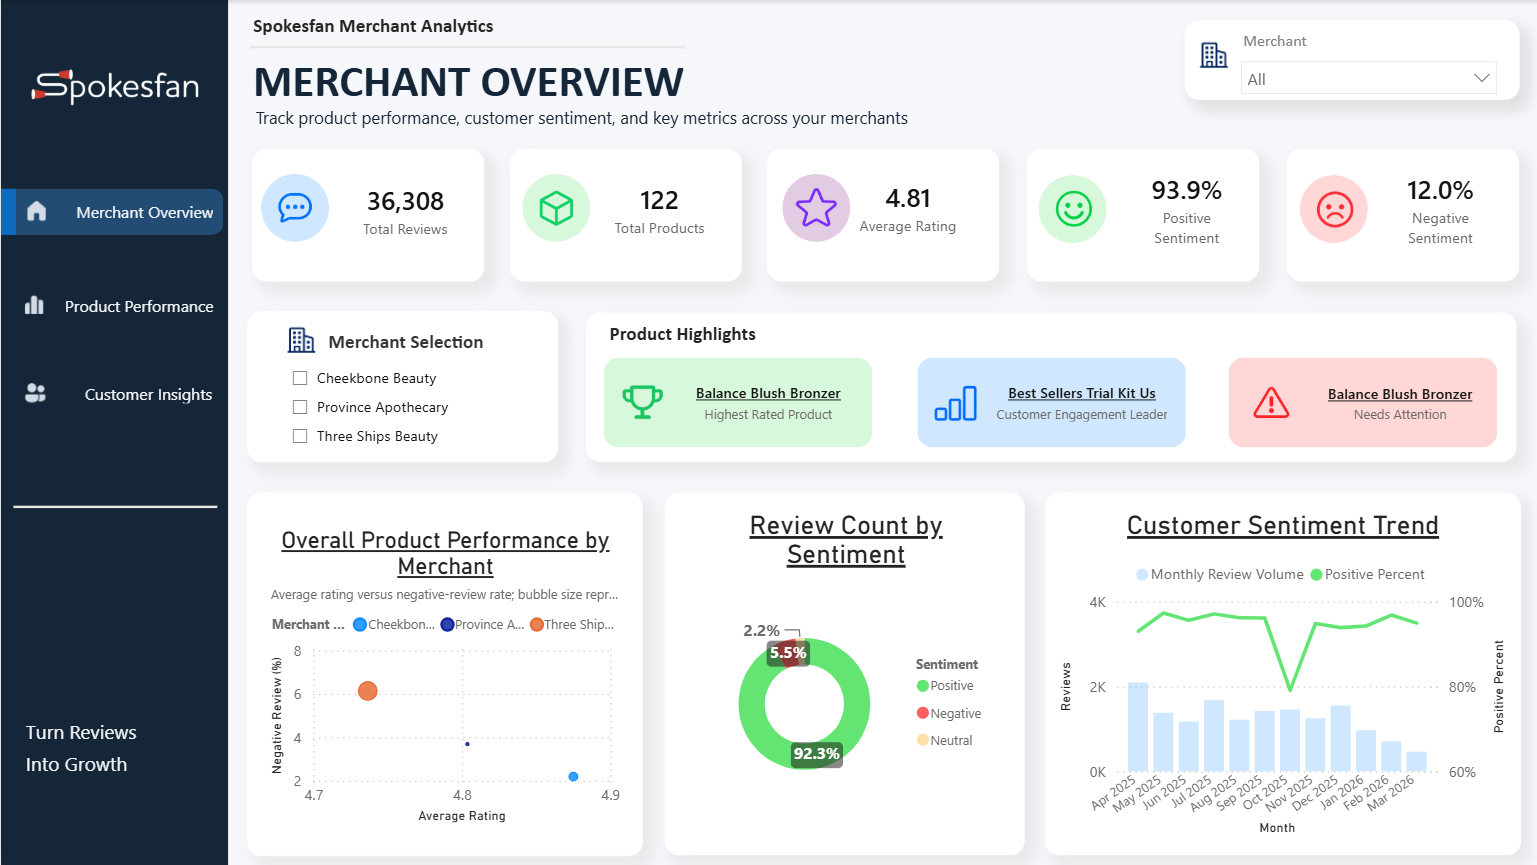

The page's visual inventory and layout, read from the dashboard file:
{"tool":"powerbi","page":{"name":"Merchant Overview","canvas":[1280,720],"ordinal":0},"visuals":[{"type":"shape","box":[10.4,406.1,439.9,288.7],"z":0},{"type":"shape","box":[1068.3,68.8,95.2,83.5],"z":1000},{"type":"shape","box":[858.2,369.2,410.4,325.6],"z":2000},{"type":"shape","box":[469.2,369.5,370.9,325.3],"z":3000},{"type":"shape","box":[469.4,195.4,801.1,130.9],"z":4000},{"type":"lineClusteredColumnComboChart","title":"Customer Sentiment Trend","fields":{"Category":["Monthly Trends.Month Year"],"Y":["Monthly Trends.Monthly Review Volume"],"Y2":["Avg(Monthly Trends.positive_percent)"]},"box":[868.7,384.6,387.6,296.7],"z":5000},{"type":"cardVisual","fields":{"Data":["Avg(Merchant Summary.average_rating)"]},"box":[751.3,200.3,168.9,120.4],"z":6000},{"type":"cardVisual","fields":{"Data":["Sum(Merchant Summary.negative_percent)"]},"box":[1062.2,200.3,199.7,120.4],"z":7000},{"type":"cardVisual","fields":{"Data":["Avg(Merchant Summary.positive_percent)"]},"box":[901.2,200.9,188.6,120.4],"z":8000},{"type":"cardVisual","fields":{"Data":["Sum(Merchant Summary.total_products)"]},"box":[613.1,200.3,161,120.4],"z":9000},{"type":"textbox","box":[399.3,63.3,560.9,101.4],"z":10000},{"type":"donutChart","fields":{"Category":["Merchant Sentiment Distribution.sentiment"],"Y":["Sum(Merchant Sentiment Distribution.review_count)"]},"box":[484.4,384.7,340.5,294.9],"z":11000},{"type":"textbox","box":[1011.4,29.9,224.2,48.2],"z":12000},{"type":"cardVisual","fields":{"Data":["Product Sentiment.Best Rated Product"]},"box":[21.5,327.4,202.7,63.9],"z":13000},{"type":"cardVisual","fields":{"Data":["Product Sentiment.Product to Watch"]},"box":[236.5,327.4,202.7,63.9],"z":14000},{"type":"cardVisual","fields":{"Data":["Product Sentiment.Top Reviewed Product"]},"box":[130.2,254.9,202.7,63.9],"z":15000},{"type":"textbox","box":[99.5,195.4,264.2,48.5],"z":16000},{"type":"image","box":[1080,78,73.7,69.4],"z":17000},{"type":"shape","box":[113,22.1,234.7,158.5],"z":18000},{"type":"textbox","box":[127.2,31.9,204,44.2],"z":19000},{"type":"slicer","fields":{"Values":["Dim Merchant.Merchant Display"]},"box":[132.1,76.2,204.6,100.8],"z":20000},{"type":"cardVisual","fields":{"Data":["Merchant Summary.Total Merchant Reviews Display"]},"box":[481,199,158.5,121.6],"z":21000},{"type":"scatterChart","title":"Overall Product Performance by Merchant","fields":{"Series":["Dim Merchant.Merchant Display"],"Size":["Product Sentiment.Merchant Total Reviews"],"X":["Merchant Summary.Merchant Average Rating"],"Y":["Merchant Summary.Merchant Negative Review Rate"]},"box":[21.5,417.7,417.7,264.8],"z":22000}]}

Visuals, with their boxes on the page's 1280x720 design canvas (x1, y1, x2, y2). These are canvas units, not pixel positions in the 1537x865 screenshot, which may show the page scaled, cropped or inside an application window:
shape: bbox(10, 406, 450, 695)
shape: bbox(1068, 69, 1164, 152)
shape: bbox(858, 369, 1269, 695)
shape: bbox(469, 370, 840, 695)
shape: bbox(469, 195, 1270, 326)
"Customer Sentiment Trend" lineClusteredColumnComboChart: bbox(869, 385, 1256, 681)
cardVisual - Avg(Merchant Summary.average_rating): bbox(751, 200, 920, 321)
cardVisual - Sum(Merchant Summary.negative_percent): bbox(1062, 200, 1262, 321)
cardVisual - Avg(Merchant Summary.positive_percent): bbox(901, 201, 1090, 321)
cardVisual - Sum(Merchant Summary.total_products): bbox(613, 200, 774, 321)
textbox: bbox(399, 63, 960, 165)
donutChart - Merchant Sentiment Distribution.sentiment x Sum(Merchant Sentiment Distribution.review_count): bbox(484, 385, 825, 680)
textbox: bbox(1011, 30, 1236, 78)
cardVisual - Product Sentiment.Best Rated Product: bbox(22, 327, 224, 391)
cardVisual - Product Sentiment.Product to Watch: bbox(236, 327, 439, 391)
cardVisual - Product Sentiment.Top Reviewed Product: bbox(130, 255, 333, 319)
textbox: bbox(100, 195, 364, 244)
image: bbox(1080, 78, 1154, 147)
shape: bbox(113, 22, 348, 181)
textbox: bbox(127, 32, 331, 76)
slicer - Dim Merchant.Merchant Display: bbox(132, 76, 337, 177)
cardVisual - Merchant Summary.Total Merchant Reviews Display: bbox(481, 199, 640, 321)
"Overall Product Performance by Merchant" scatterChart: bbox(22, 418, 439, 682)
